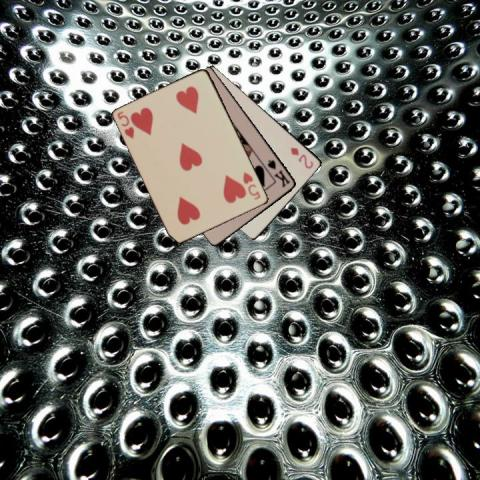2d: (288, 145, 316, 170)
5h: (240, 169, 262, 201), (114, 108, 136, 140)
Ks: (265, 156, 291, 188)
